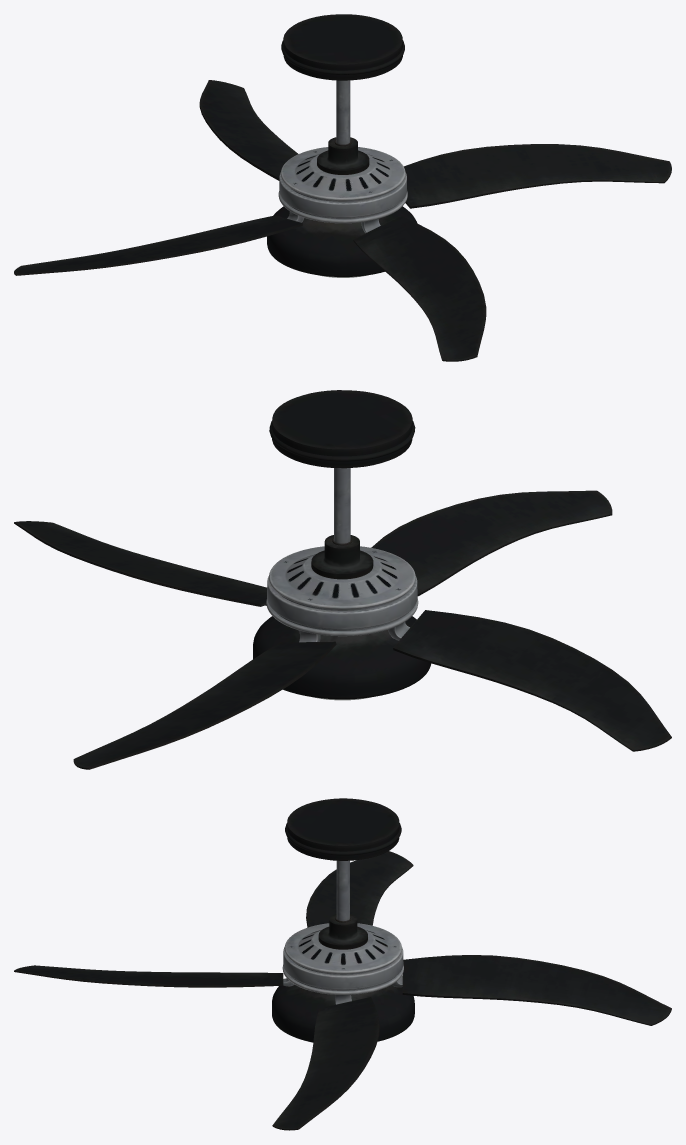
Rendered from ceiling_fan.glb.
3 renders of one model, top to bottom at view 1: azimuth 30°, elevation 25°; view 2: azimuth 150°, elevation 25°; view 3: azimuth 270°, elevation 25°, orthographic. The views are drawn at different scales.
Parts seen in each view (by area): view 1: ceiling_fan_blades, ceiling_fan; view 2: ceiling_fan_blades, ceiling_fan; view 3: ceiling_fan_blades, ceiling_fan.
Boxes of the visible parts, x1,y1,x2,y2 form: ceiling_fan_blades: (14,80,671,361); ceiling_fan: (267,14,417,277); ceiling_fan_blades: (14,490,671,769); ceiling_fan: (253,390,431,700); ceiling_fan_blades: (14,851,671,1130); ceiling_fan: (272,798,414,1042).
Size of the model in its own units: 1.5 by 0.5294 by 1.5.
Materials: 1 (1 with a texture image).
